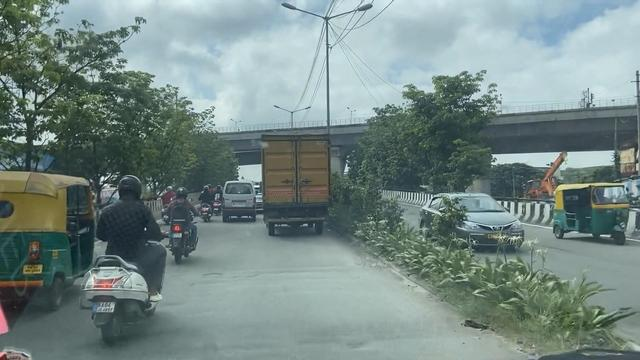HMV: (261, 136, 329, 229)
LMV: (97, 179, 162, 339), (2, 171, 78, 306), (167, 189, 198, 261), (224, 181, 256, 221), (201, 185, 213, 223)
